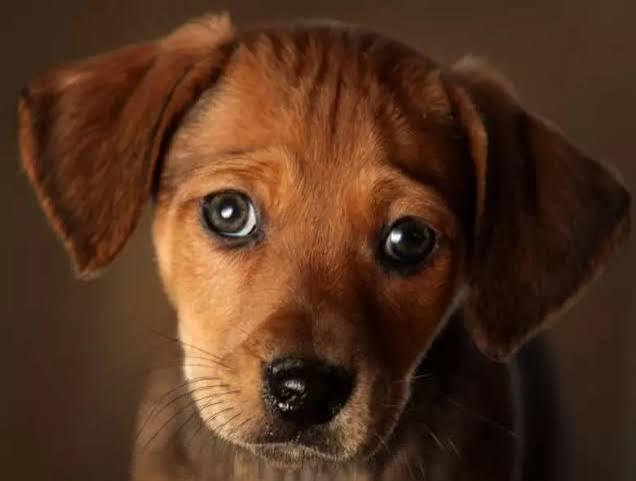puppy-dog: (12, 7, 634, 481)
